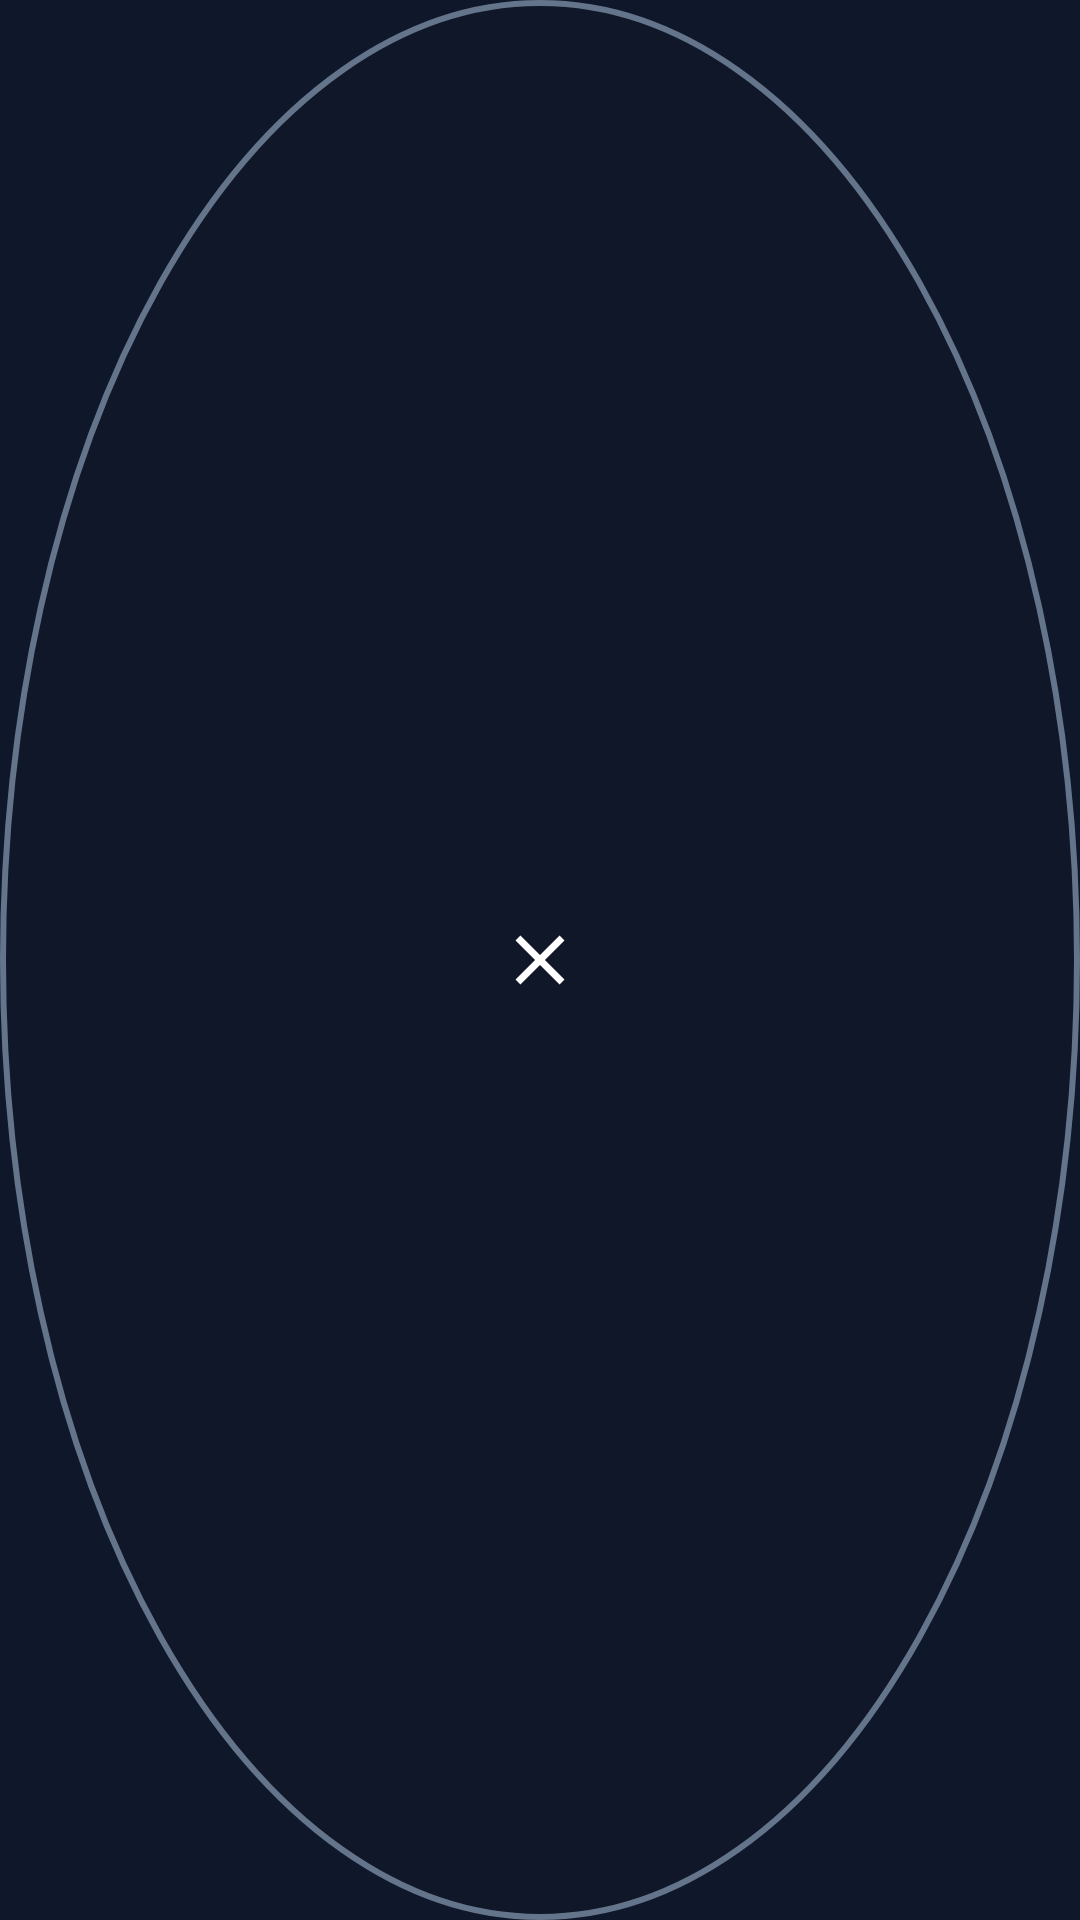

Where icons sit on this 1080px×1920px app screen, as (x1, y1, x2, y2):
close: (515, 935, 565, 985)
